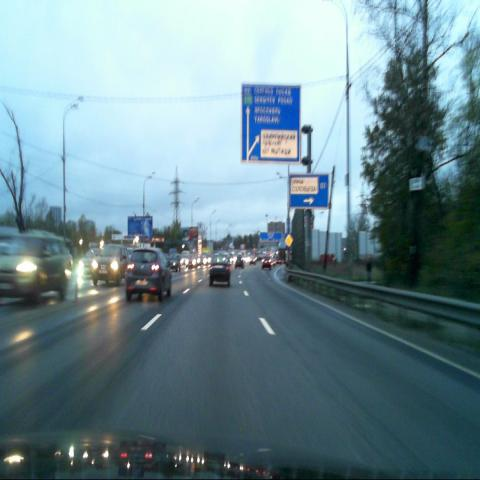2_1: (285, 234, 293, 247)
